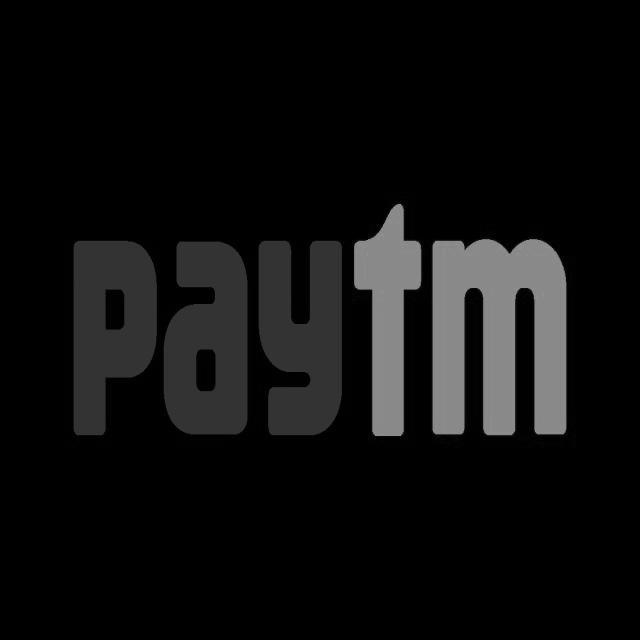fully_visible: (59, 196, 580, 450)
